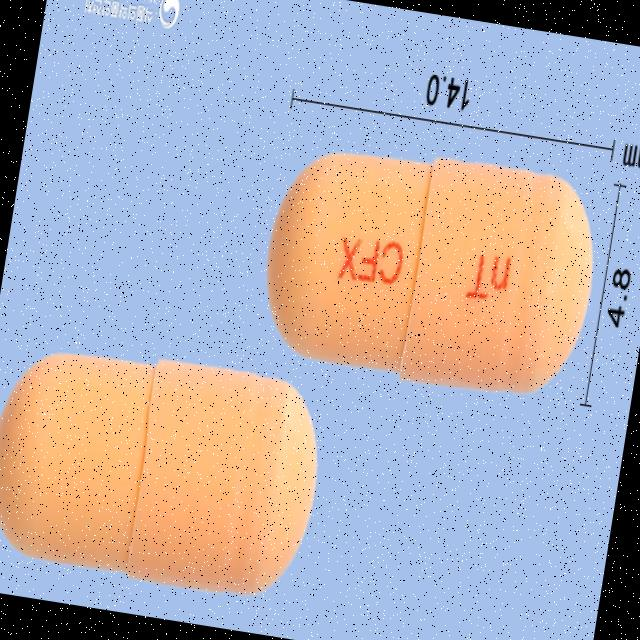NT-fixime Cap: (251, 132, 607, 408)
